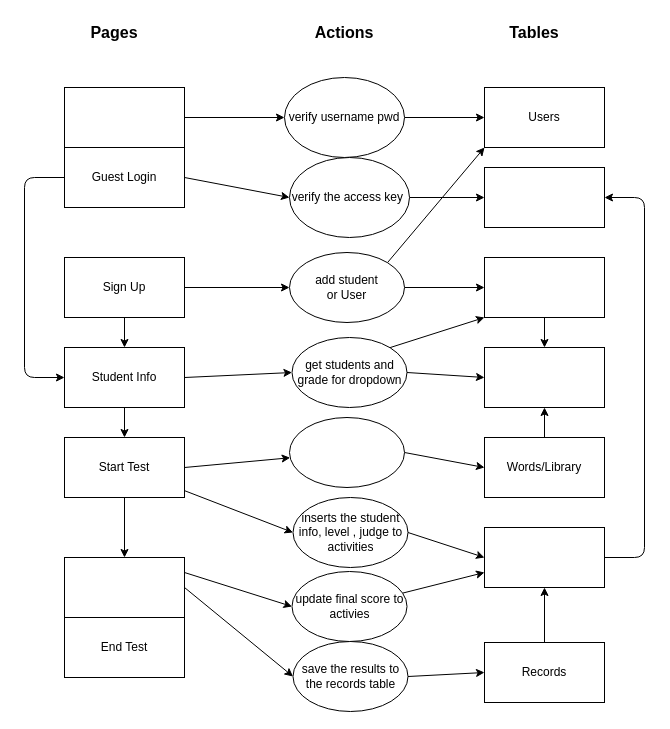
The diagram is 670 pixels wide and 729 high, and some of its shapes have lost their labels. The box of each missing label's shape, as (x1, y1, x2, y2) in pixels:
Activites: (484, 526, 604, 588)
EventsConfig: (484, 166, 604, 228)
get [50] random words: (288, 416, 404, 488)
Level/Grade: (484, 346, 604, 408)
Lgoin: (64, 86, 184, 148)
Students: (484, 256, 604, 318)
Test board: (64, 556, 184, 618)
